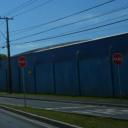Pare: (111, 52, 124, 66), (18, 56, 27, 68)
